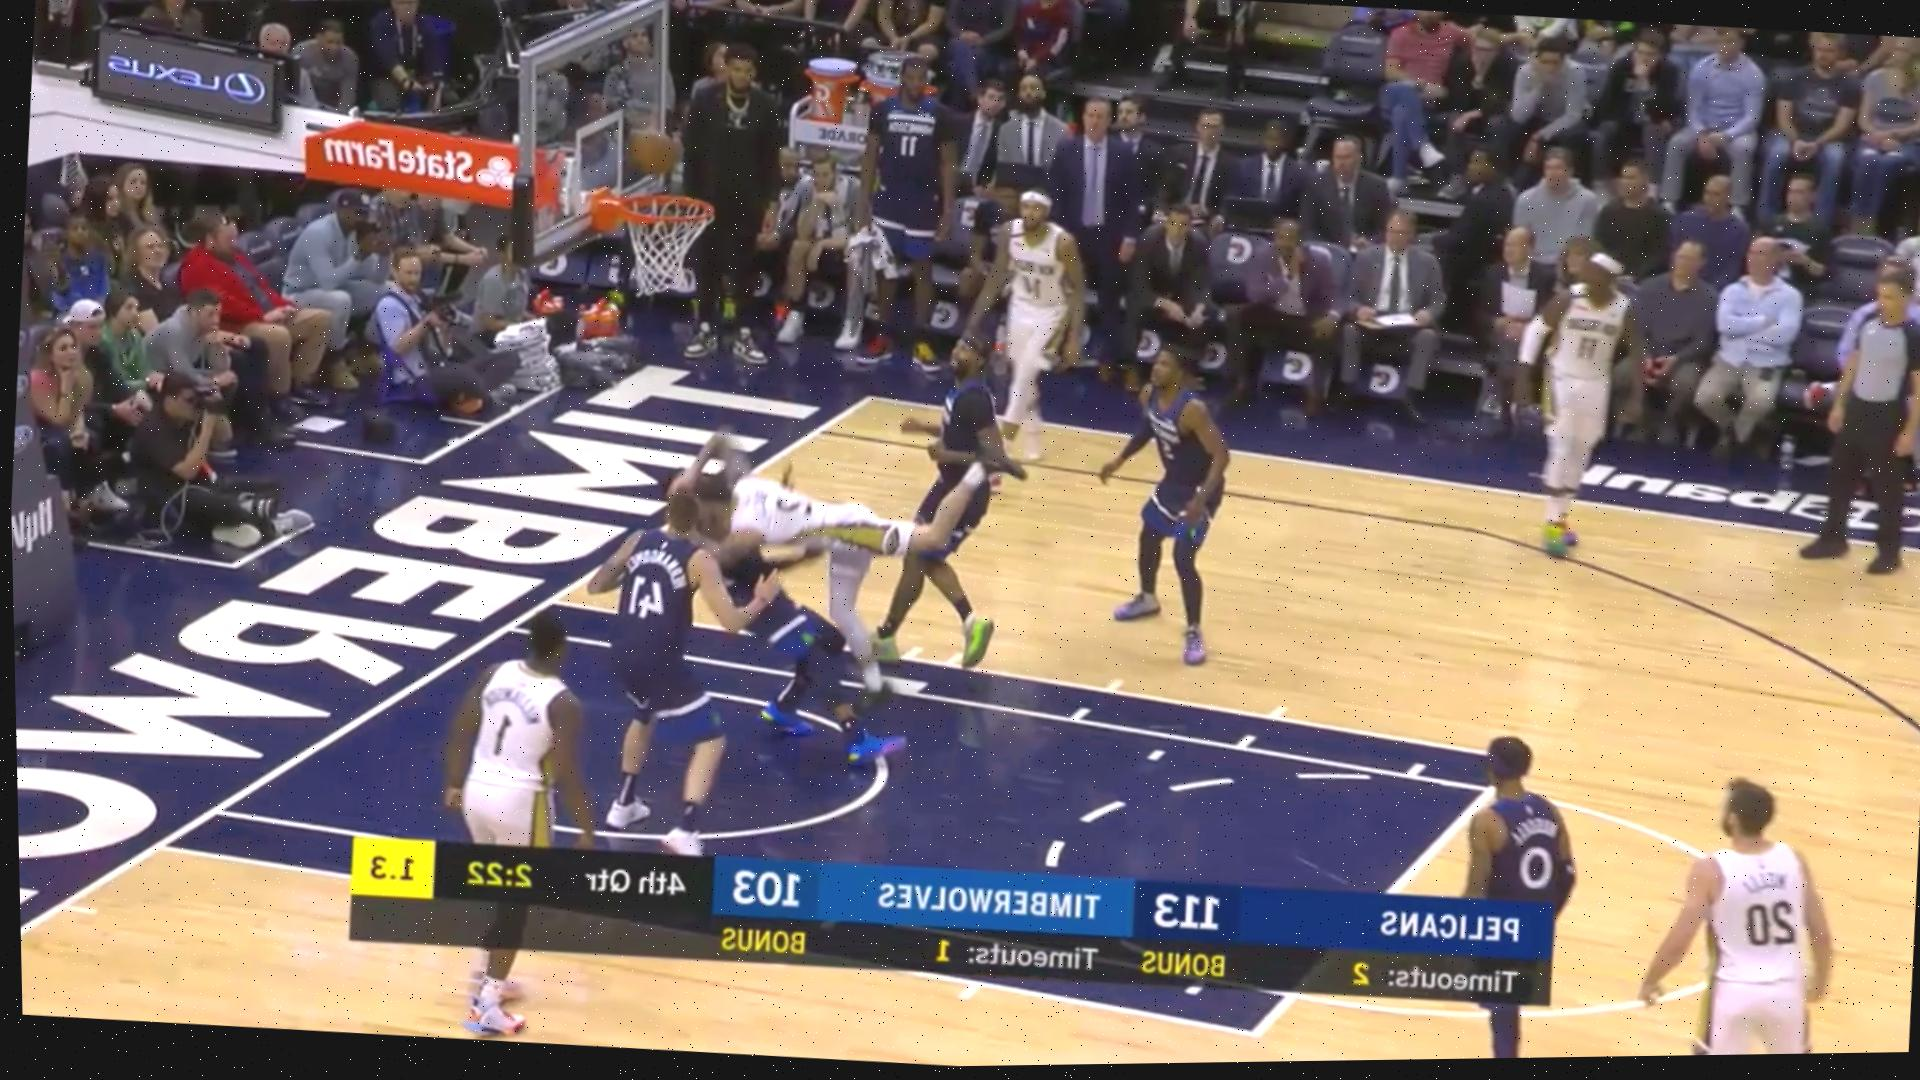foul: (683, 439, 884, 723)
